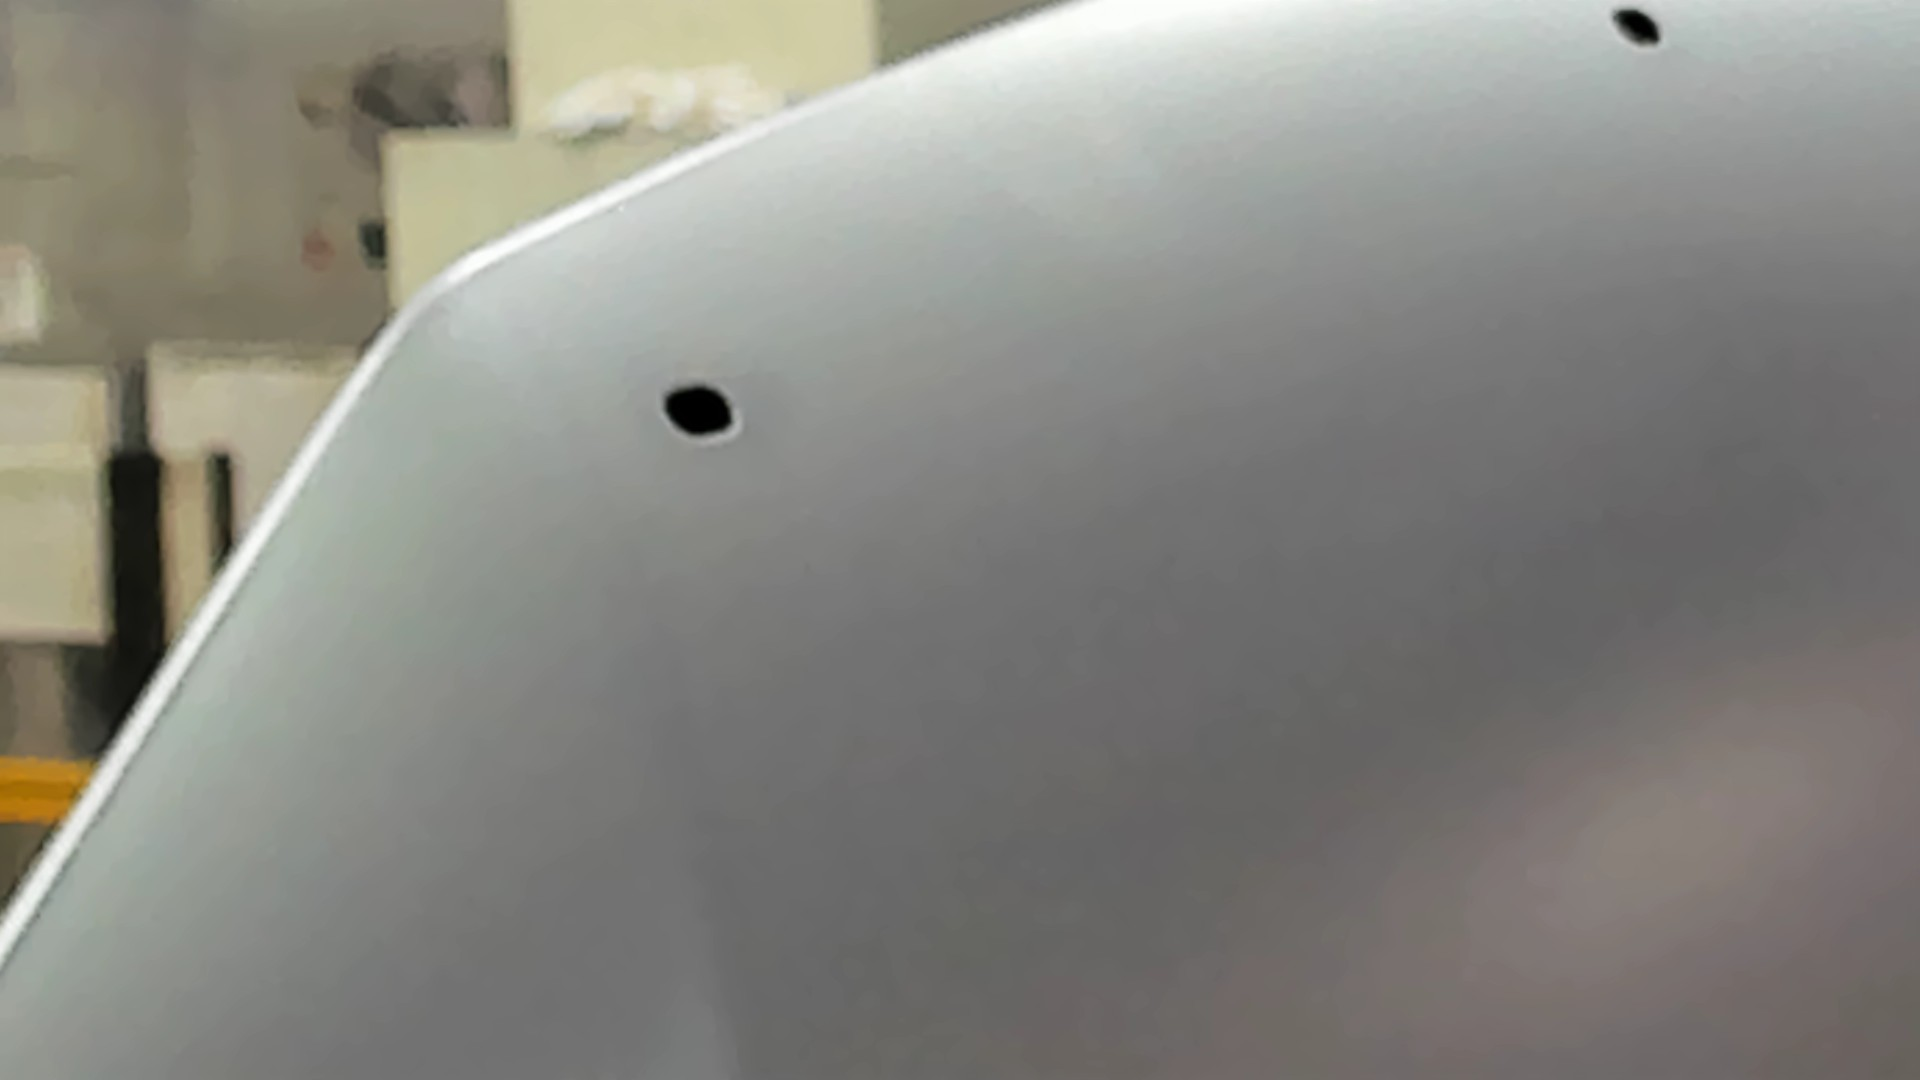amorfo: (647, 378, 756, 447), (1606, 7, 1677, 53)
capo: (862, 107, 1920, 1080)
